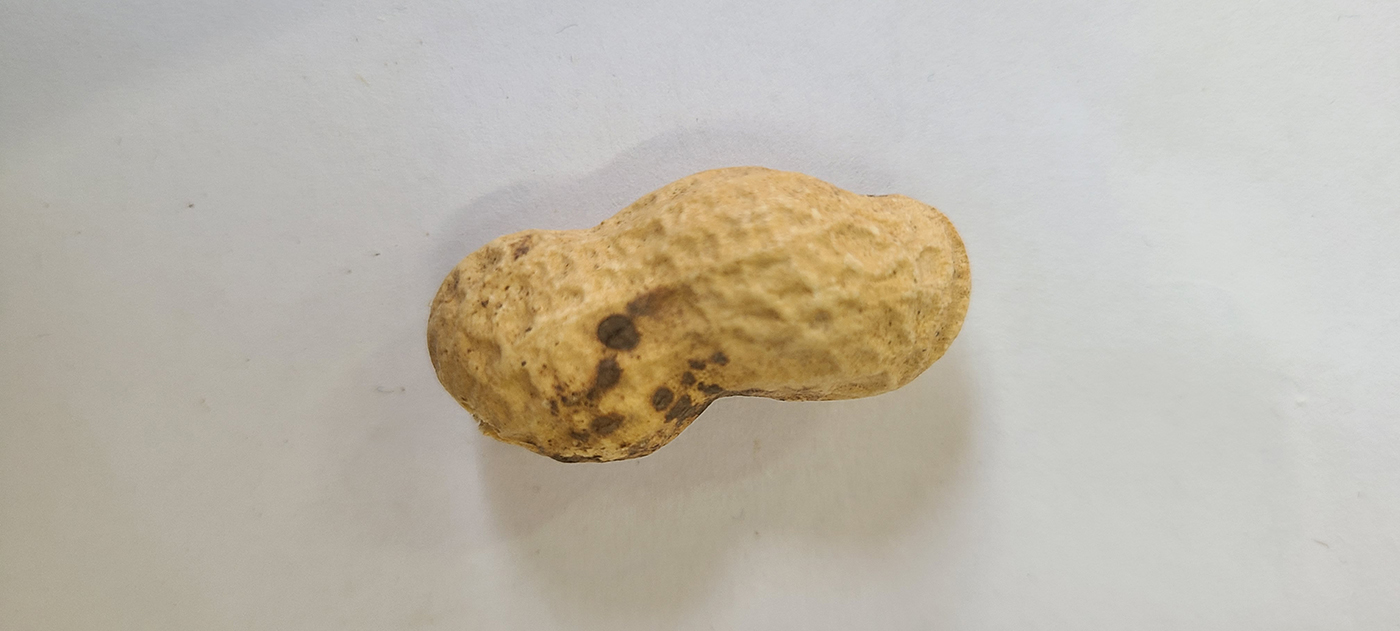h: (426, 164, 976, 465)
